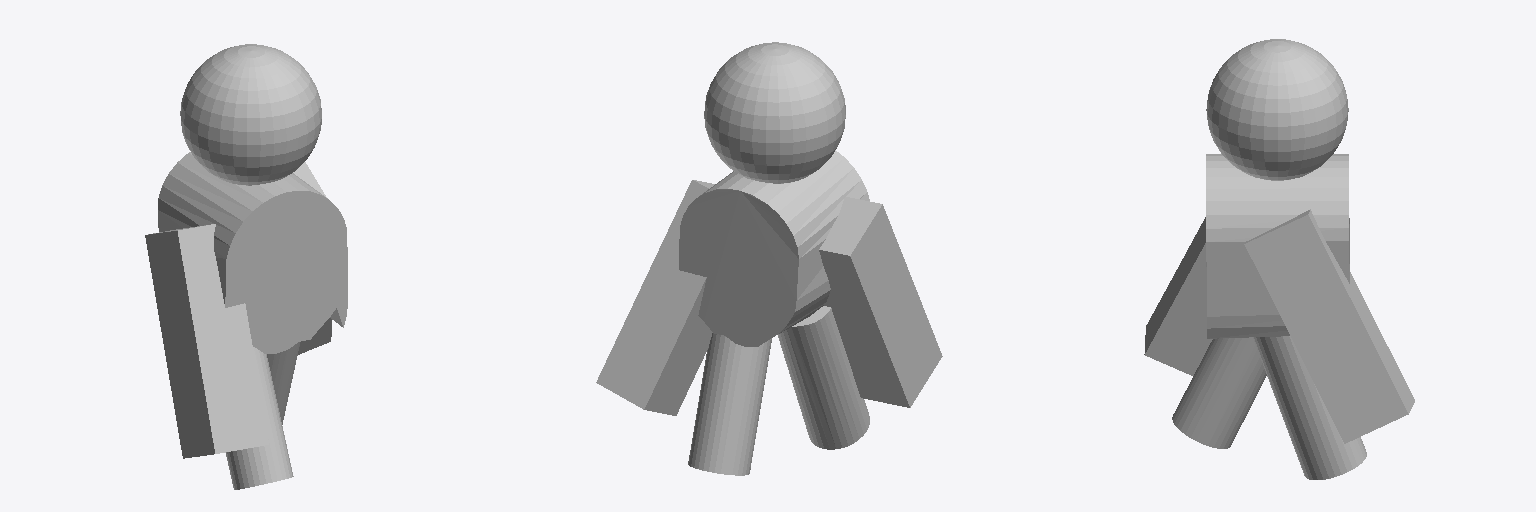
File: Figurine105.obj
3 views of the same model, side by side, from view 1: azimuth 30°, elevation 25°; view 2: azimuth 150°, elevation 25°; view 3: azimuth 270°, elevation 25° (orthographic).
Parts seen in each view (by area): view 1: Cylinder; view 2: Cylinder; view 3: Cylinder.
Part boxes in pixels (x1,y1,x2,y2): Cylinder: (145,44,347,489); Cylinder: (596,42,942,475); Cylinder: (1144,39,1414,479).
Bounding box in the file's own units: 3.49 × 6.44 × 3.81.